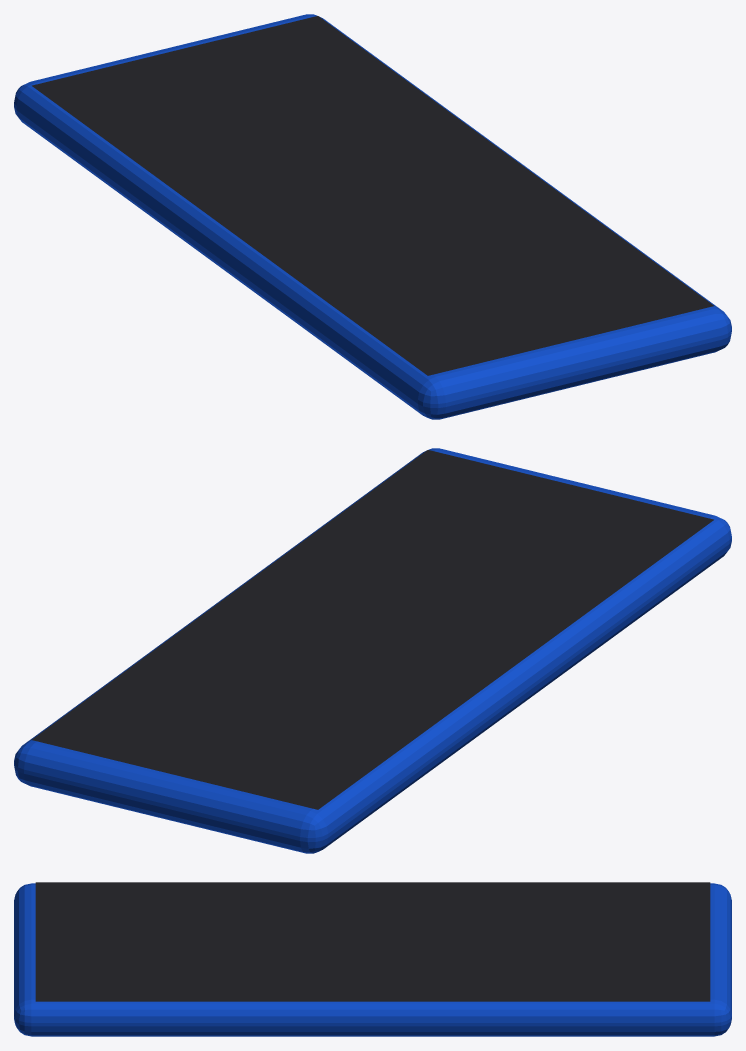
File: Phone_722.glb
The picture shows the model from 3 angles, top to bottom: view 1: azimuth 30°, elevation 25°; view 2: azimuth 150°, elevation 25°; view 3: azimuth 270°, elevation 25°; orthographic projection. The views are drawn at different scales.
Visible parts, largest first — view 1: Phone_Screen, Phone_Body; view 2: Phone_Screen, Phone_Body; view 3: Phone_Screen, Phone_Body.
Part boxes in pixels (box(x1,y1,x2,y2)): Phone_Screen: box(32, 16, 713, 375); Phone_Body: box(14, 14, 731, 419); Phone_Screen: box(32, 450, 713, 809); Phone_Body: box(14, 448, 731, 853); Phone_Screen: box(35, 882, 710, 1001); Phone_Body: box(14, 883, 731, 1036).
Size of the model in its own units: 0.0702 by 0.009 by 0.1646.
